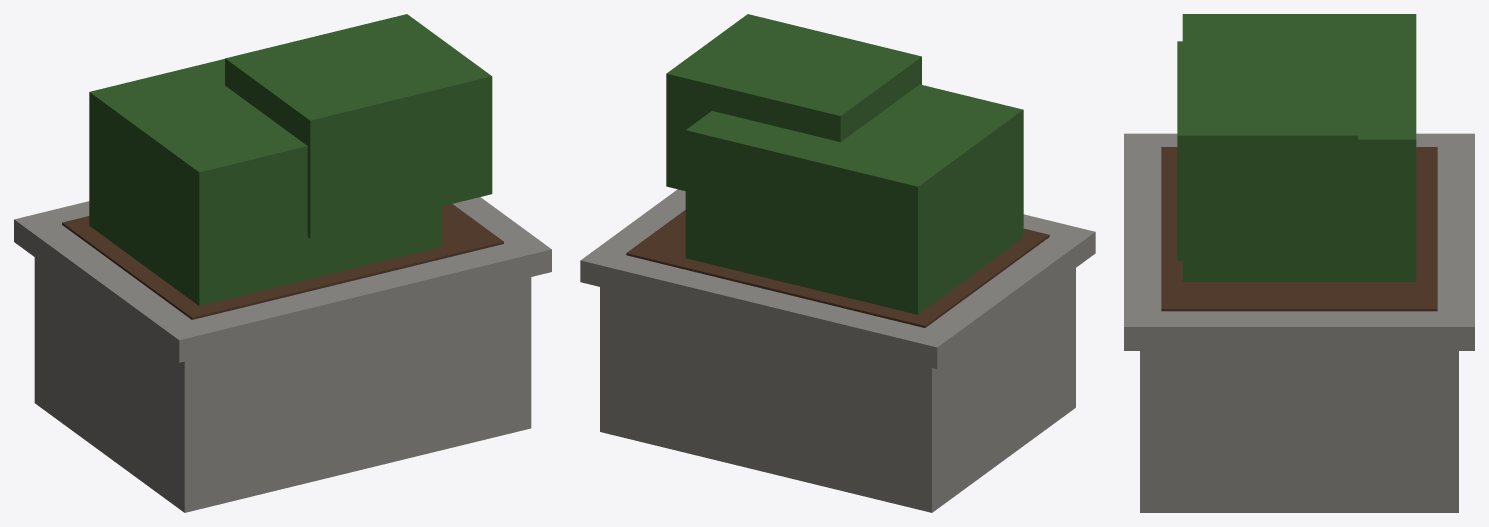
The model's file is SM_P1_Bush_Planter_A.obj.
The picture shows the model from 3 angles, left to right: view 1: azimuth 30°, elevation 25°; view 2: azimuth 150°, elevation 25°; view 3: azimuth 270°, elevation 25°; orthographic projection. The views are drawn at different scales.
Parts seen in each view (by area): view 1: planter_body, bush_a, bush_b, planter_rim, soil; view 2: planter_body, bush_a, planter_rim, bush_b, soil; view 3: planter_body, bush_b, planter_rim, bush_a, soil.
Part boxes in pixels (left/top/right/bottom): planter_body: left=34, top=257, right=531, bottom=512; bush_a: left=89, top=59, right=441, bottom=305; bush_b: left=225, top=14, right=492, bottom=238; planter_rim: left=14, top=197, right=551, bottom=362; soil: left=62, top=204, right=503, bottom=319; planter_body: left=600, top=268, right=1075, bottom=512; bush_a: left=685, top=84, right=1023, bottom=314; planter_rim: left=580, top=189, right=1095, bottom=369; bush_b: left=666, top=14, right=921, bottom=190; soil: left=626, top=210, right=1049, bottom=327; planter_body: left=1140, top=351, right=1458, bottom=512; bush_b: left=1177, top=41, right=1357, bottom=260; planter_rim: left=1124, top=133, right=1474, bottom=350; bush_a: left=1182, top=14, right=1416, bottom=281; soil: left=1161, top=147, right=1437, bottom=311.
Bounding box in the file's own units: 0.86 × 0.76 × 0.66.
